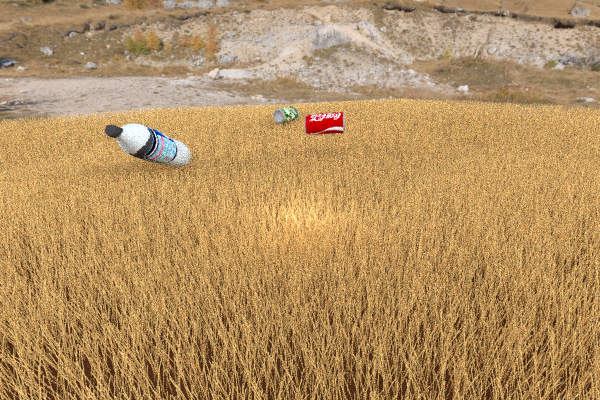bottle: (104, 123, 190, 167)
can: (304, 111, 345, 135), (273, 106, 298, 123)
